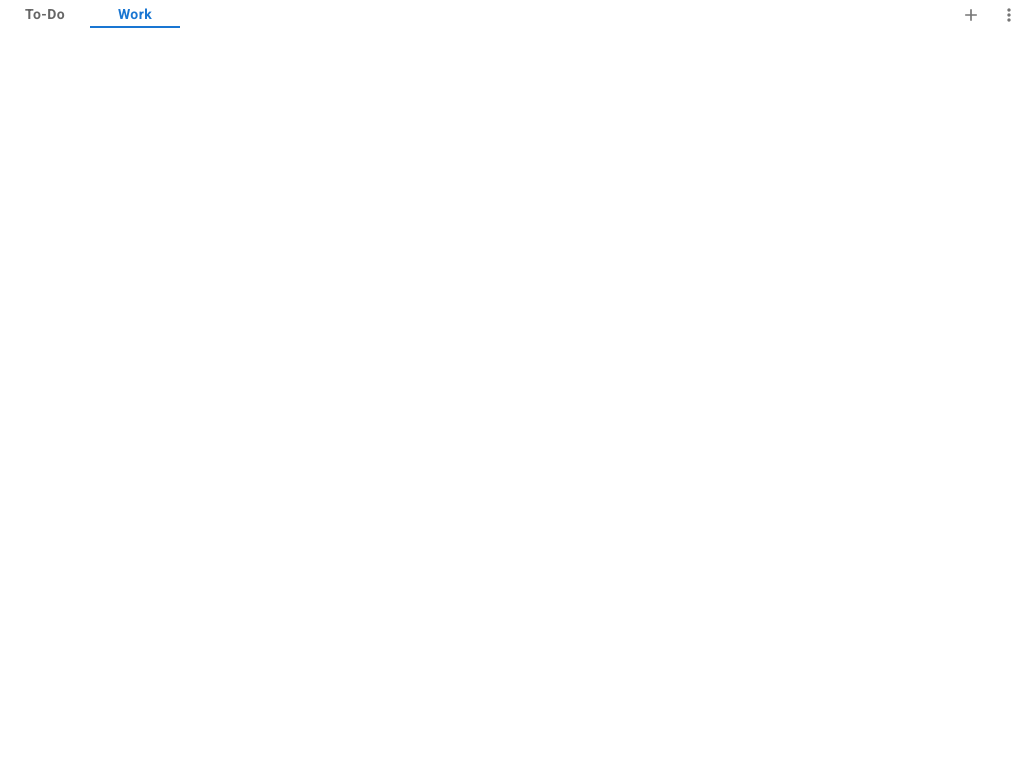
Scenario: renames the active list from the options menu
The width and height of the screenshot is (1024, 768).
Click the button named "List options": (1009, 15) [994,0,1023,30]
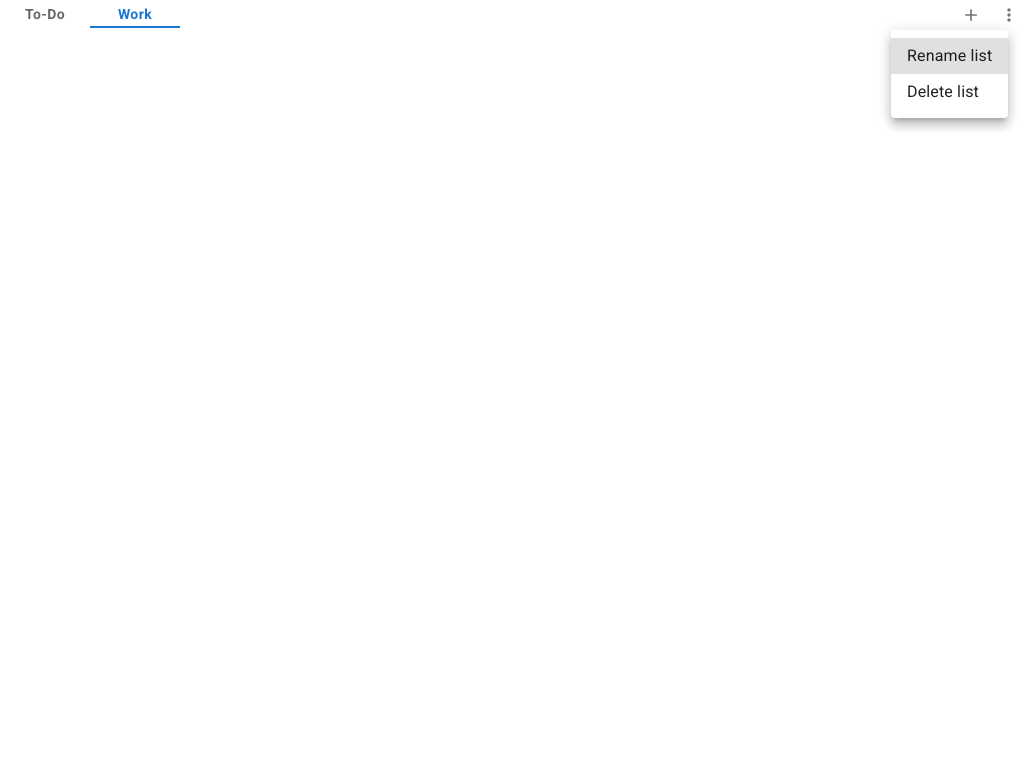
Click the menu item "Rename list": (950, 56) [891,38,1008,74]
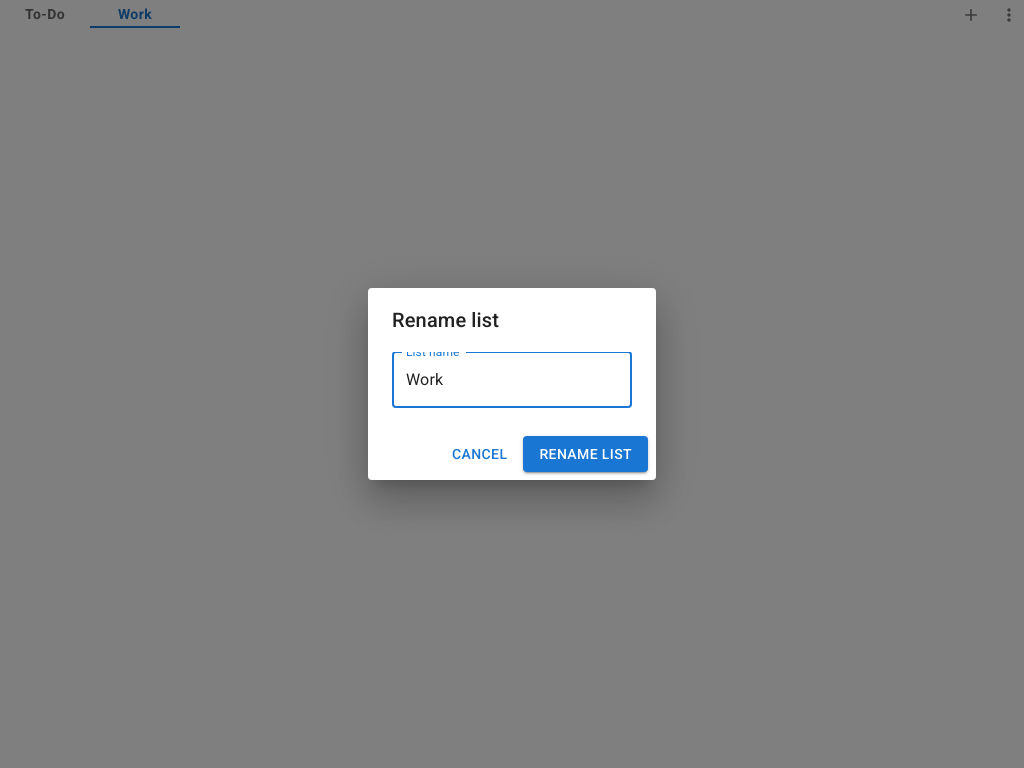
Result: the dialog "Rename list" is shown at [368,288,656,480]
Result: the field labelled "List name" holds "Work"
Replace the text in the field labelled "List name" with "Home": (512, 380) [392,352,632,408]
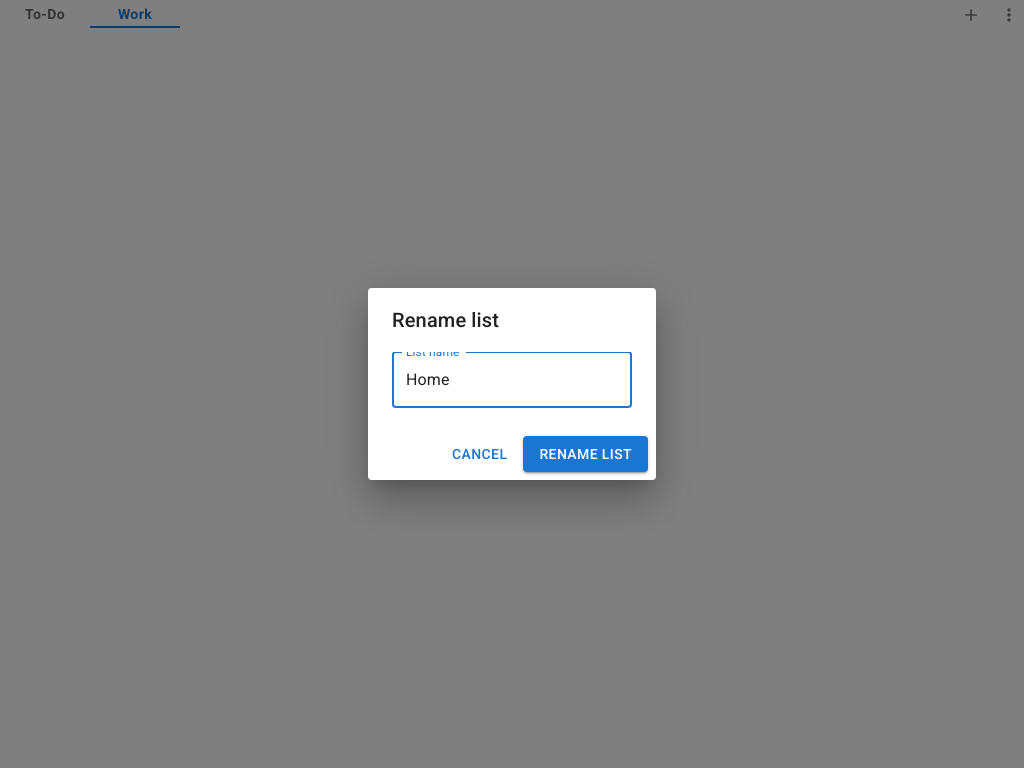
Click the button "Rename list": (586, 454) [523,436,648,472]
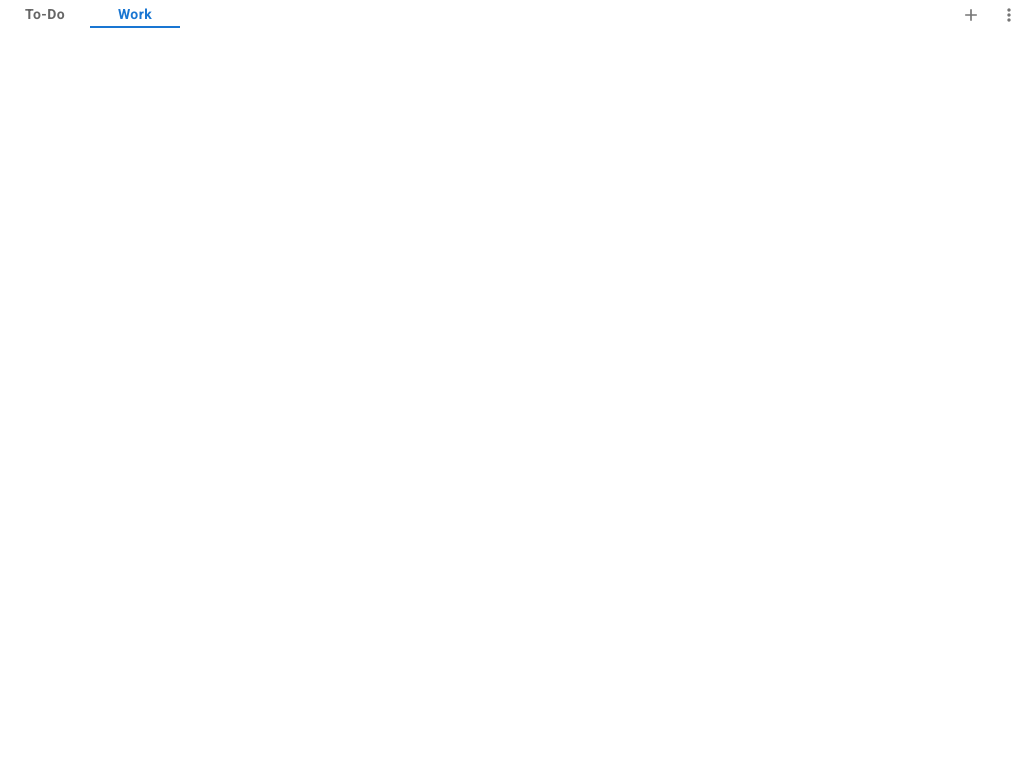
Result: the dialog is gone
